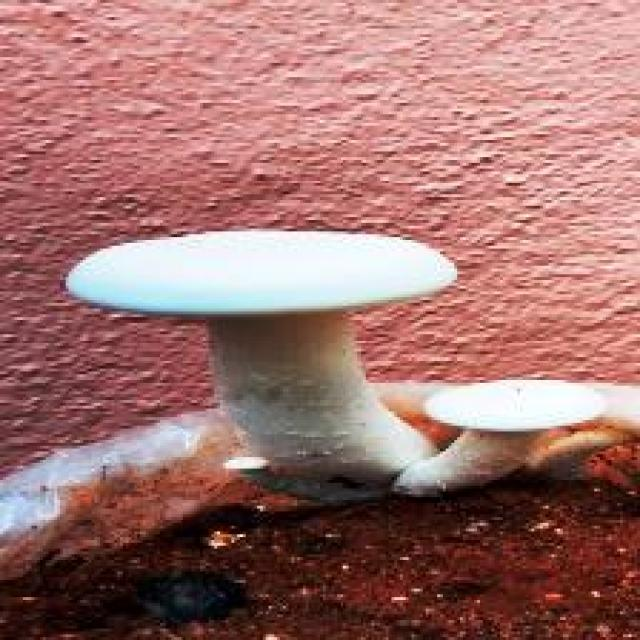chanterelle: (0, 223, 637, 583)
